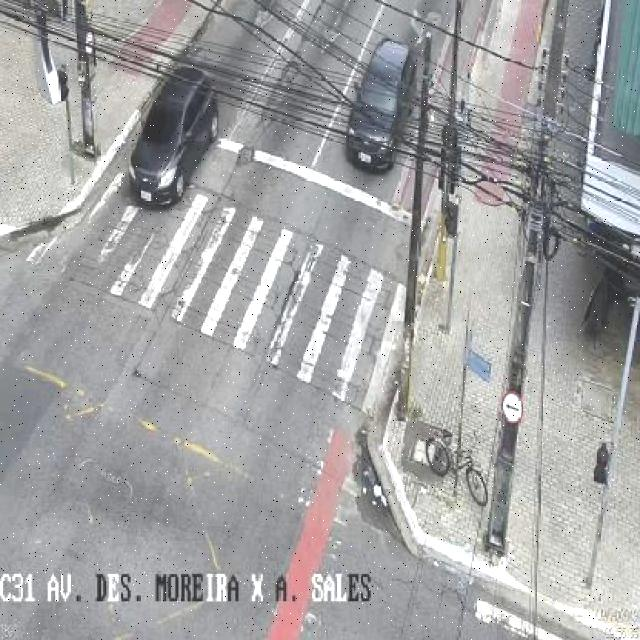Car: (128, 65, 221, 205), (346, 39, 413, 172)
Cycle: (425, 428, 490, 509)
